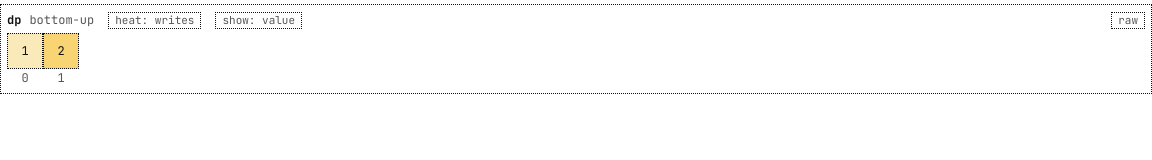
inspector dismissal › DpTablePanel › closes the cell detail with Escape
Click the 1st text with class "dp-cell": (25, 51) x1=7 y1=33 x2=43 y2=69
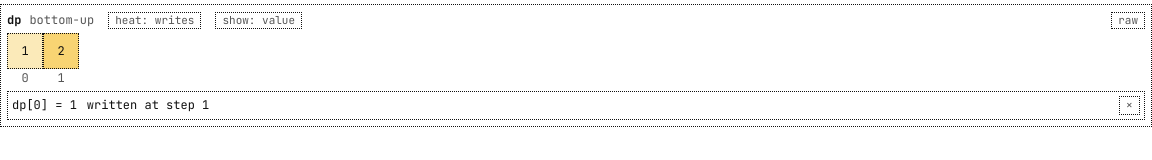
Result: the element with class "dp-detail" is shown at x1=7 y1=91 x2=1145 y2=120
Press Escape
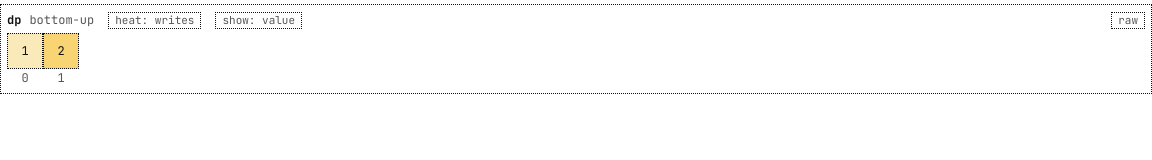
Result: the element with class "dp-detail" is gone
